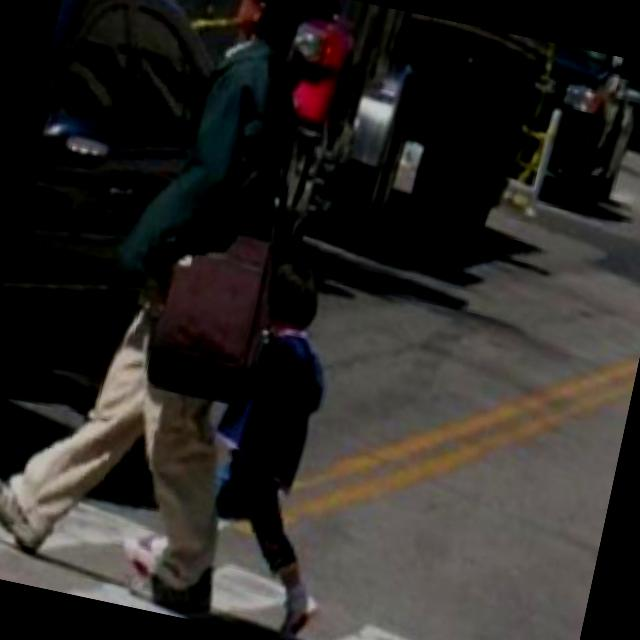Person: (0, 0, 354, 624), (195, 259, 384, 640)
